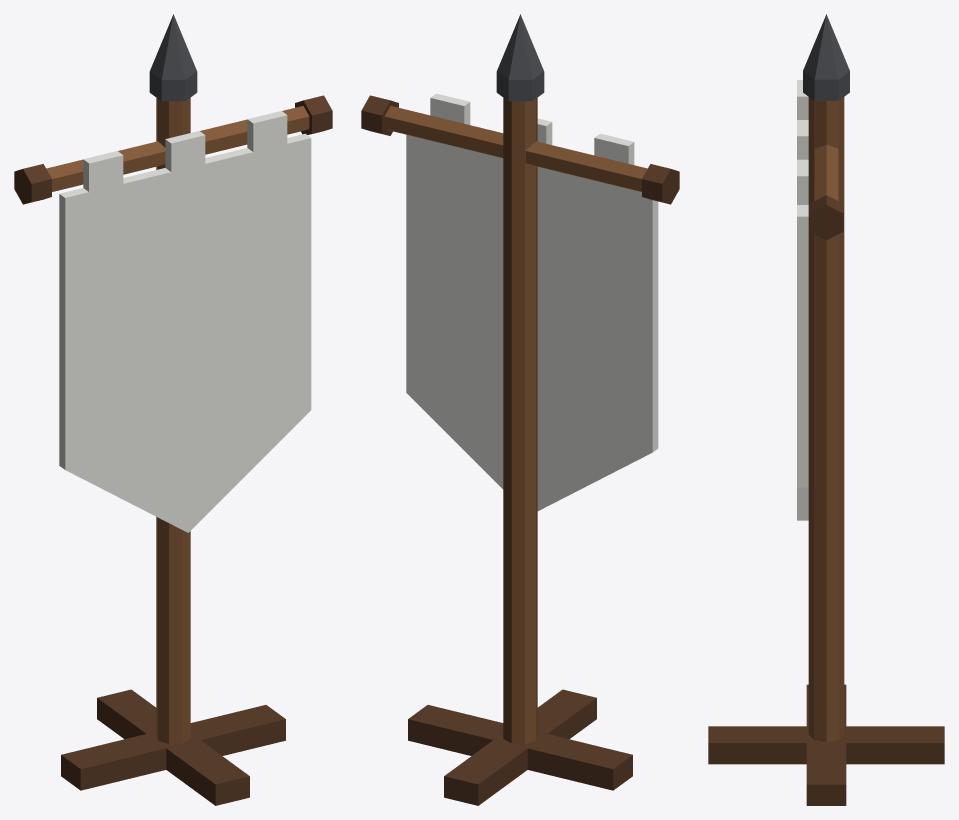
File: vfem2_standing_banner.obj
The picture shows the model from 3 angles, left to right: view 1: azimuth 30°, elevation 25°; view 2: azimuth 150°, elevation 25°; view 3: azimuth 270°, elevation 25°; orthographic projection.
Parts seen in each view (by area): view 1: vfem2_standing_banner; view 2: vfem2_standing_banner; view 3: vfem2_standing_banner.
Part boxes in pixels (<box>): vfem2_standing_banner: <box>14,14,332,805</box>; vfem2_standing_banner: <box>361,14,679,805</box>; vfem2_standing_banner: <box>708,14,944,805</box>.
Bounding box in the file's own units: 0.88 × 2.08 × 0.6.
